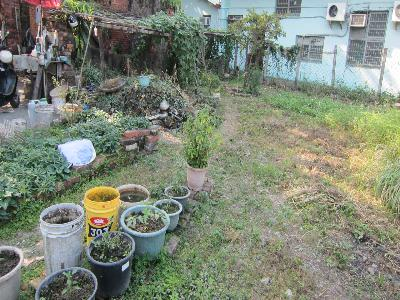bucket: (38, 201, 85, 273), (82, 185, 121, 247), (118, 181, 149, 209)
